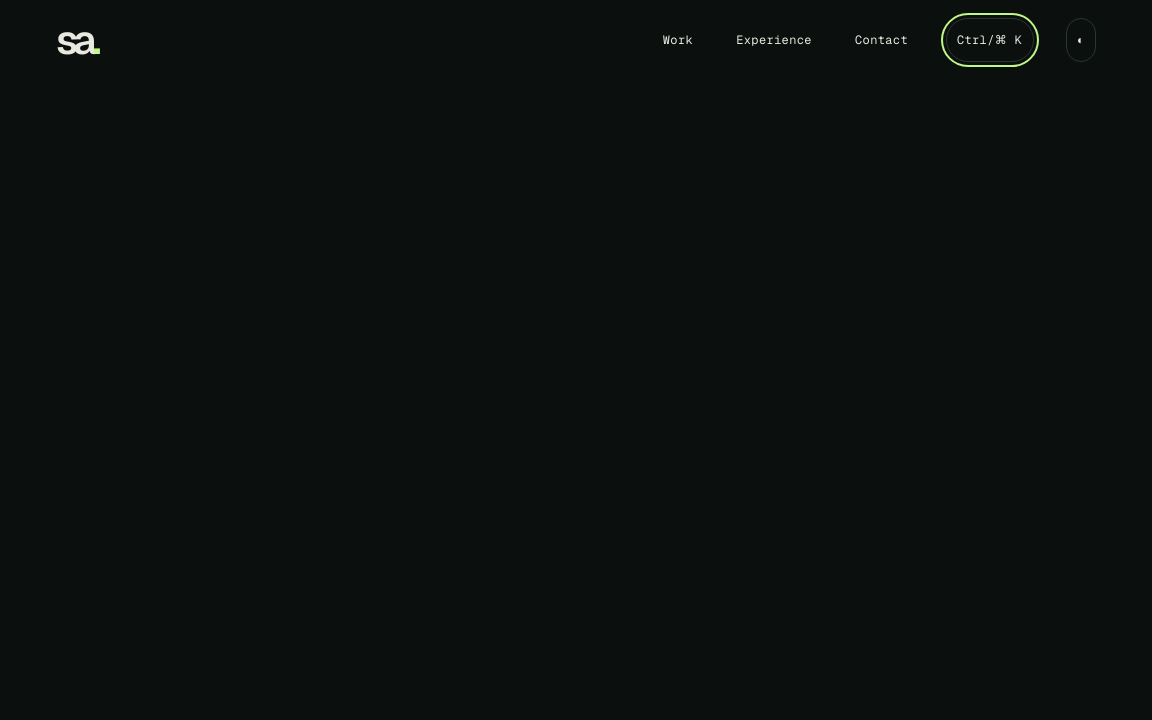
Test: closes globally and returns focus to the opener
This screenshot has width=1152, height=720.
Click the button with aria-label "open command palette" at (990, 40), box [946,18,1034,62]
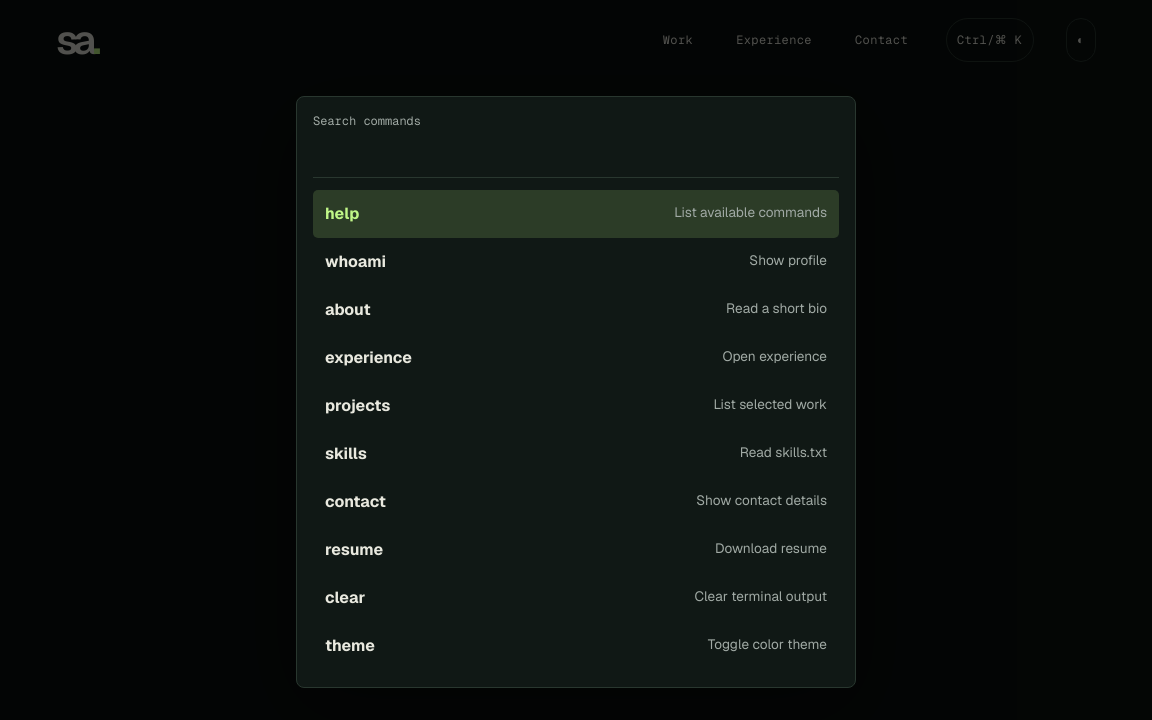
Press Escape
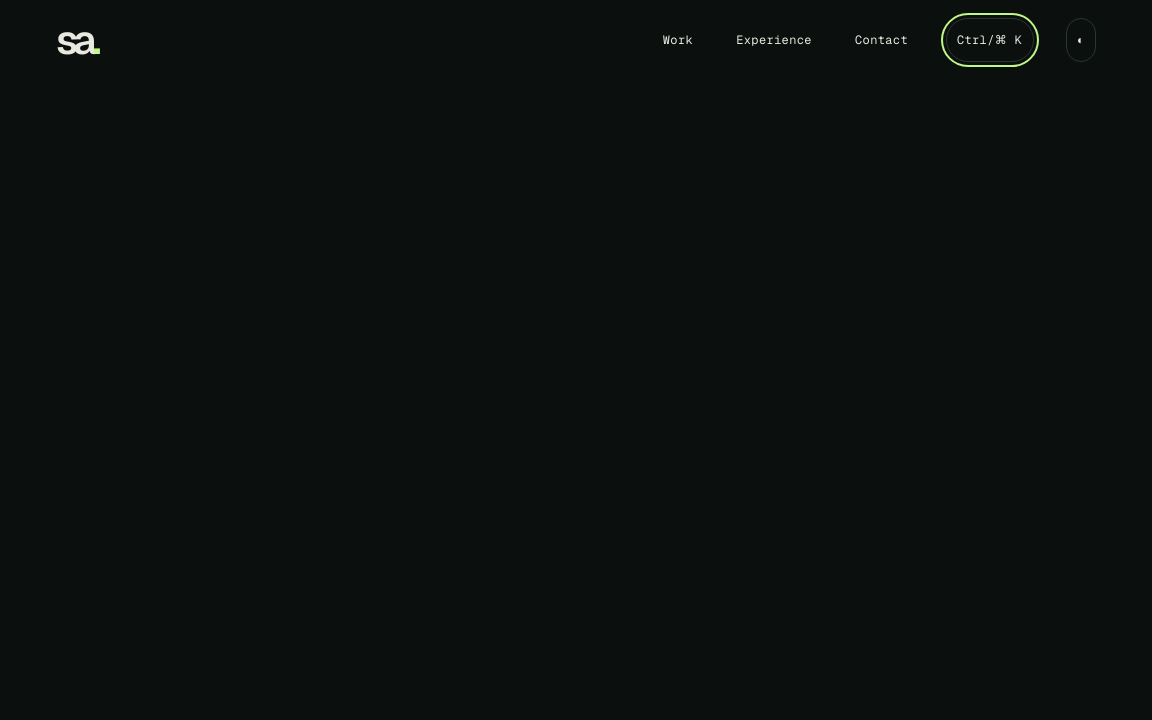
Check: the dialog is gone
